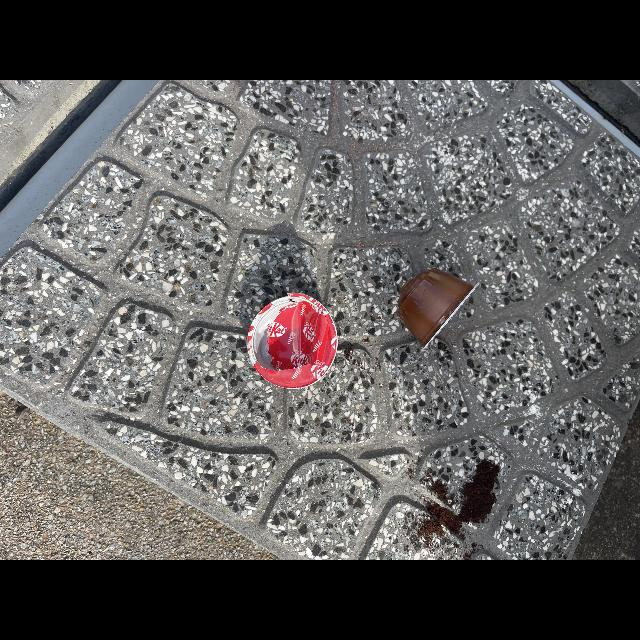damaged_capsule: (240, 284, 354, 398)
intact_capsule: (382, 264, 483, 352)
